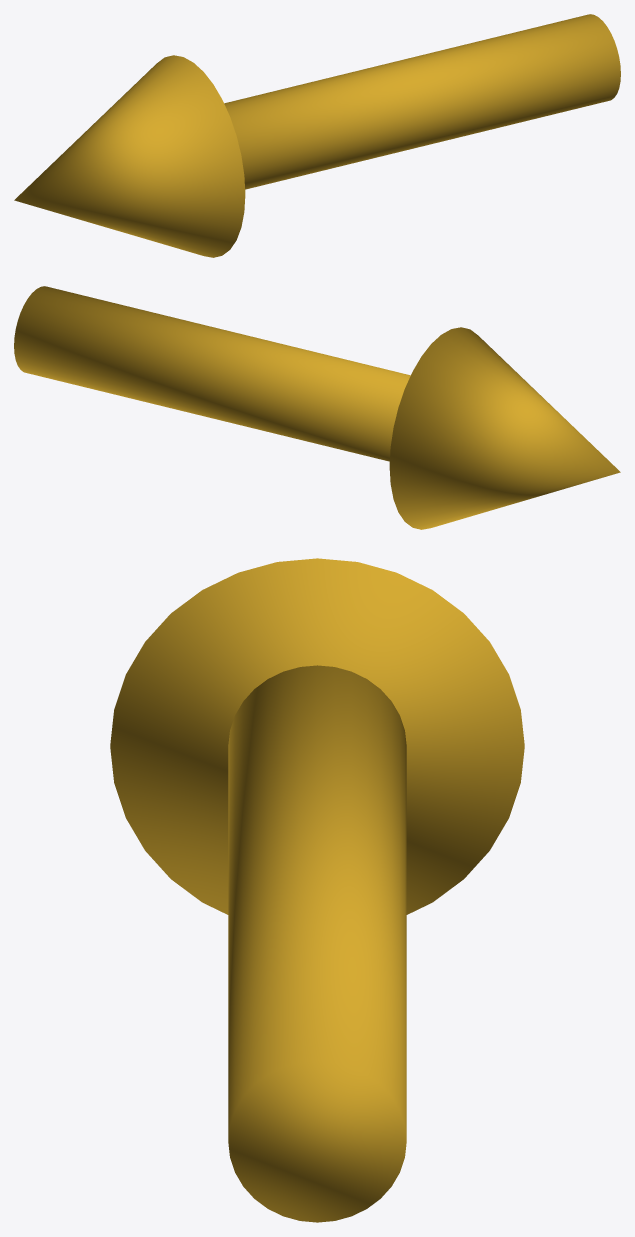
File: AxisArrow.fbx
The picture shows the model from 3 angles, top to bottom: view 1: azimuth 30°, elevation 25°; view 2: azimuth 150°, elevation 25°; view 3: azimuth 270°, elevation 25°; orthographic projection. The views are drawn at different scales.
Parts seen in each view (by area): view 1: Arrow; view 2: Arrow; view 3: Arrow.
Part boxes in pixels (box(x1,y1,x2,y2)): Arrow: box(14, 14, 620, 257); Arrow: box(14, 286, 620, 529); Arrow: box(110, 558, 524, 1222).
Bounding box in the file's own units: 651 × 200 × 200.
